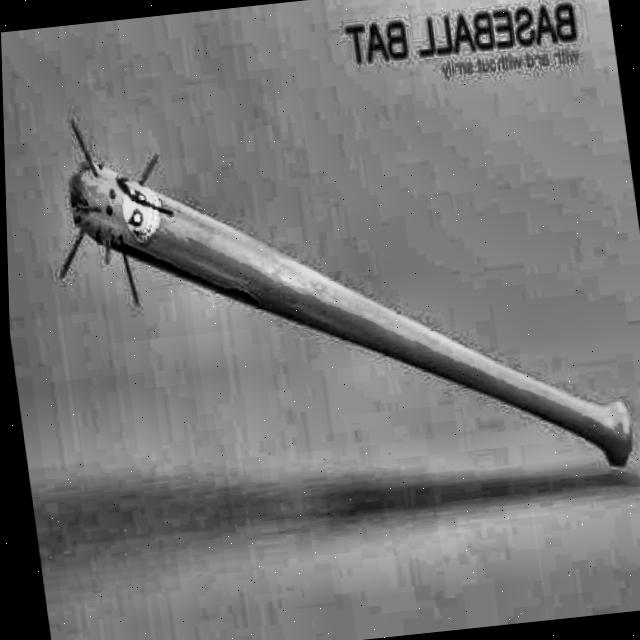tongkat pemukul: (51, 105, 640, 478)
